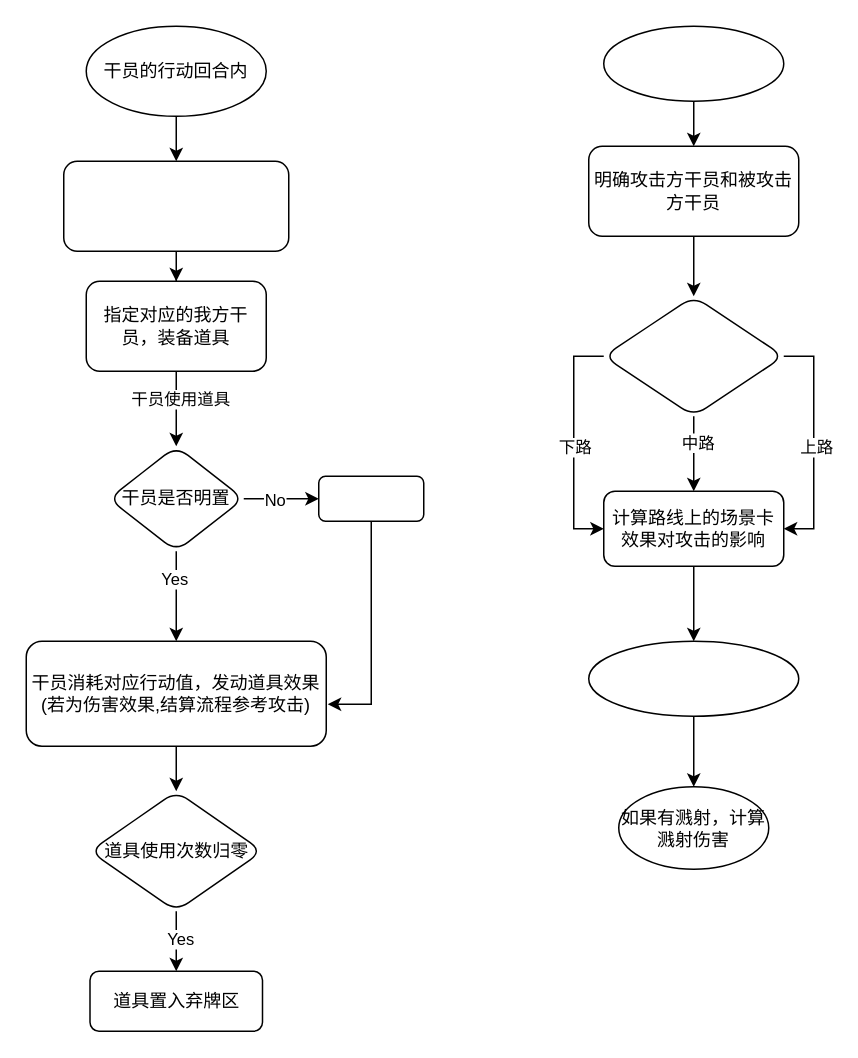
Some shapes in this 858 by 1058 pixel diagram are drawn without their labels. The centre of each missing label's shape, as x and y in pixels:
攻击/伤害结算流程: (x=693, y=63)
攻击方路线选择: (x=693, y=355)
明置干员: (x=370, y=498)
玩家从手牌中使用道具牌: (x=175, y=205)
结算被攻击方受到的伤害: (x=693, y=678)
